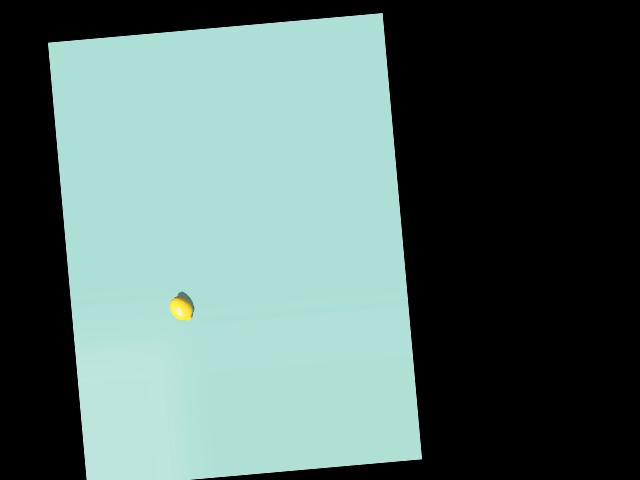lemon: (168, 288, 197, 323)
